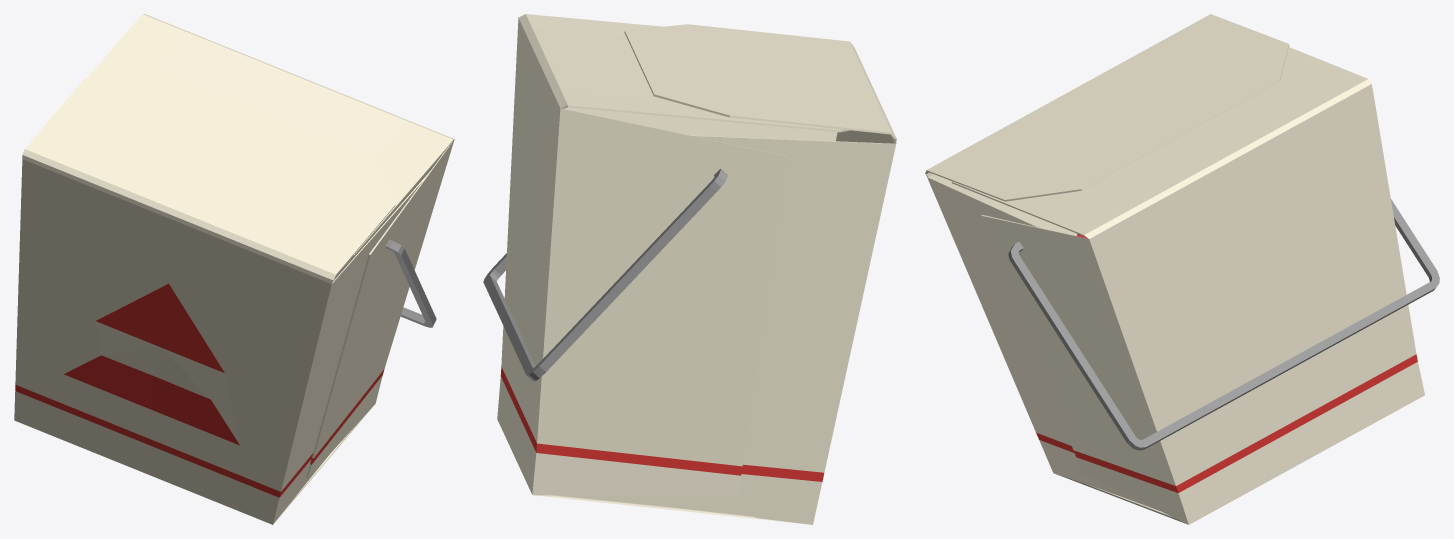
The model's file is takeout_box.glb.
3 renders of one model, left to right at view 1: azimuth 30°, elevation 25°; view 2: azimuth 150°, elevation 25°; view 3: azimuth 270°, elevation 25°, orthographic. The views are drawn at different scales.
Visible parts, largest first — view 1: Cube.432, Cube.433; view 2: Cube.432, Cube.433; view 3: Cube.432, Cube.433.
Boxes of the visible parts, x1,y1,x2,y2 form: Cube.432: (14, 14, 454, 524); Cube.433: (385, 239, 436, 327); Cube.432: (497, 14, 896, 524); Cube.433: (483, 169, 727, 381); Cube.432: (925, 14, 1424, 524); Cube.433: (1008, 199, 1439, 450).
Size of the model in its own units: 2.03 by 2.02 by 2.32.
Materials: 1 (1 with a texture image).
